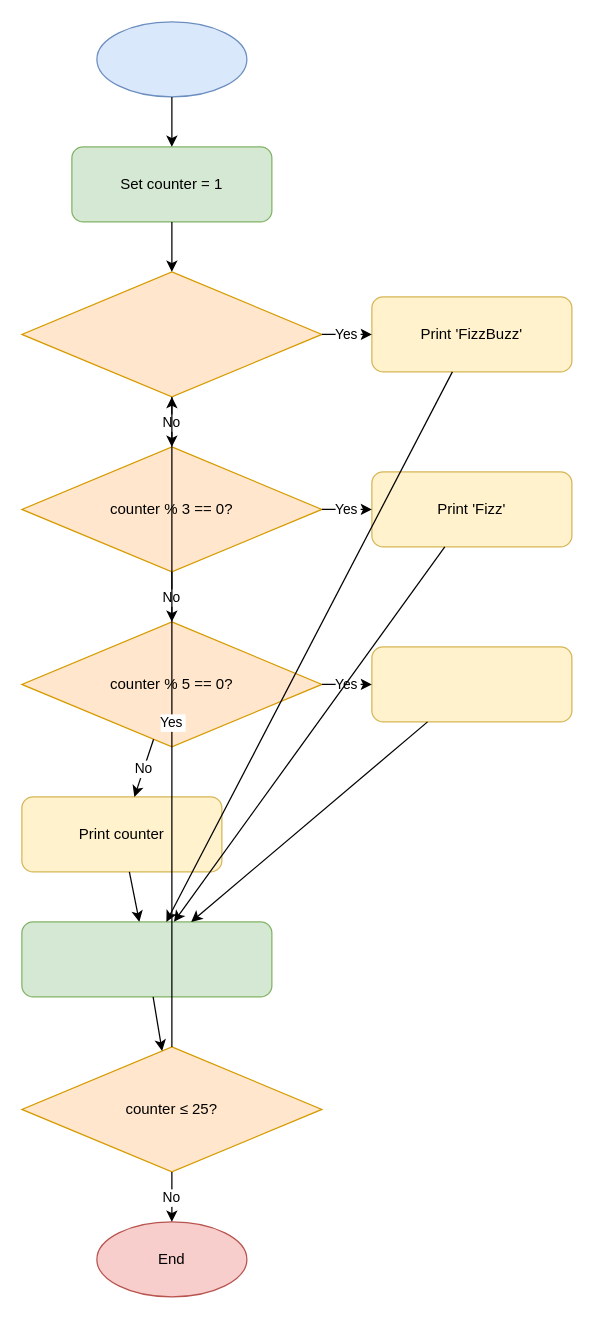
This 594x1319 diagram has some shape labels left out. Each missing label, with the centre of its shape:
counter % 3 == 0 AND counter % 5 == 0?: (x=171, y=334)
counter = counter + 1: (x=146, y=959)
Print 'Buzz': (x=471, y=684)
Start: (x=171, y=59)
